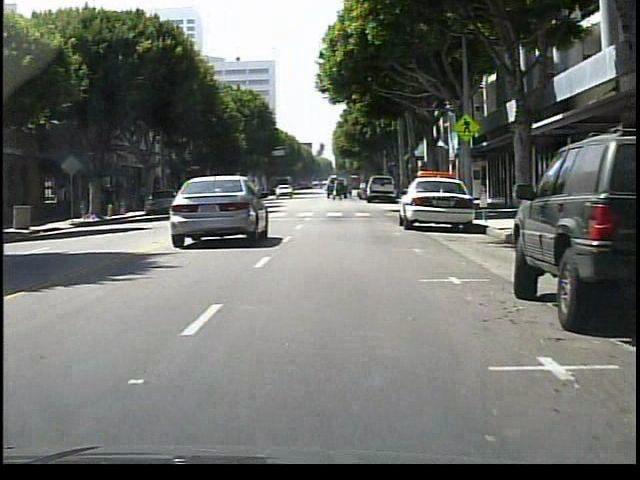person: (101, 188, 114, 219), (56, 183, 67, 218), (97, 186, 107, 216), (336, 176, 337, 199)
